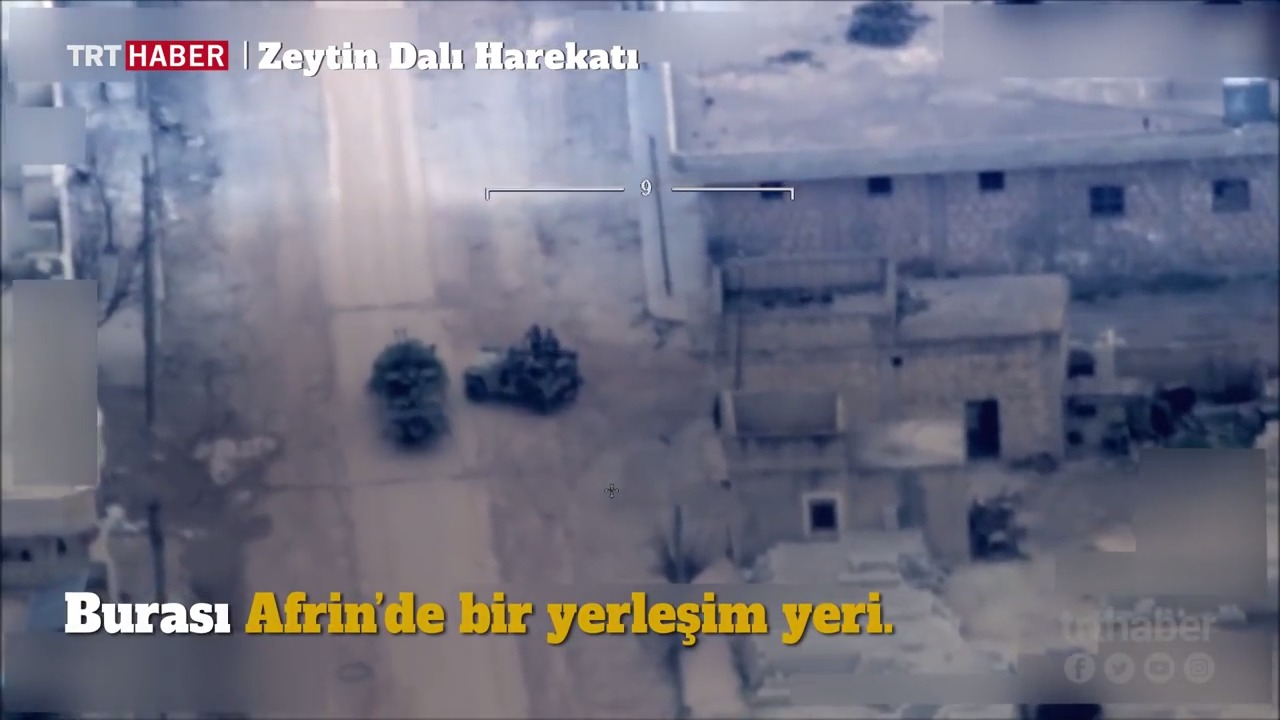arac: (363, 329, 458, 452), (474, 348, 582, 396)
bina: (708, 252, 1114, 496)
insan: (519, 315, 540, 345), (542, 320, 563, 348)
